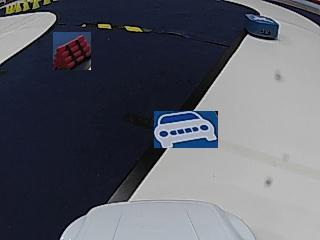prop: (246, 14, 278, 40)
